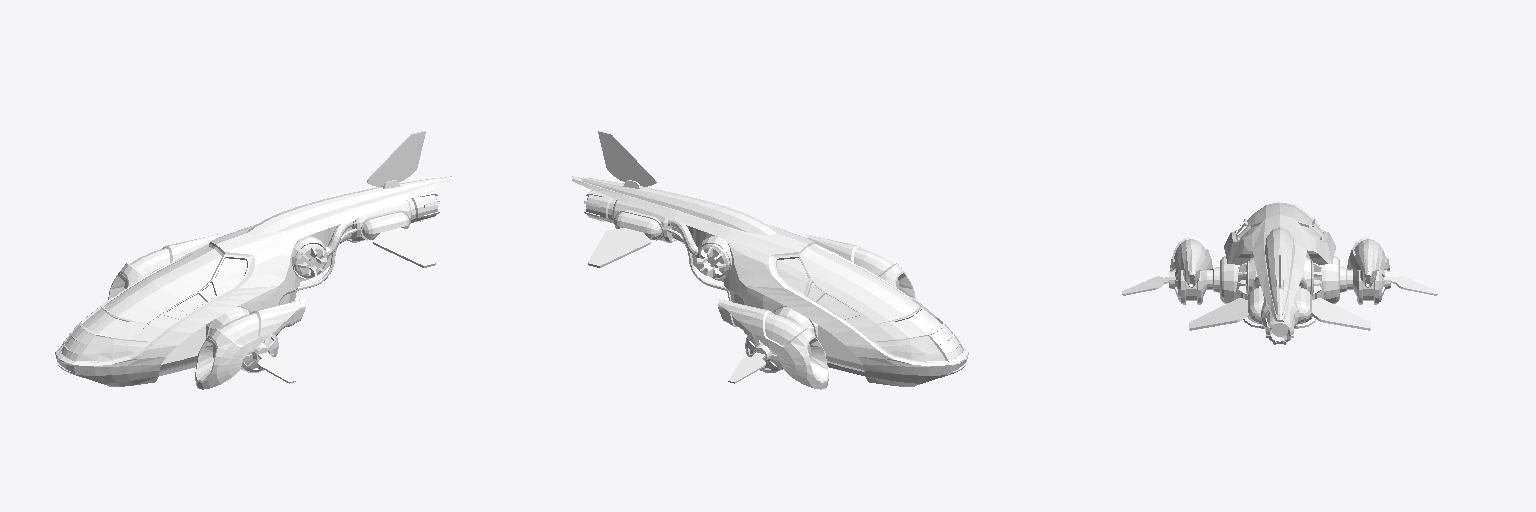
The model's file is Sample_Ship1.obj.
3 renders of one model, left to right at view 1: azimuth 30°, elevation 25°; view 2: azimuth 150°, elevation 25°; view 3: azimuth 270°, elevation 25°, orthographic.
Visible parts, largest first — view 1: Ship_Type_3_Sphere.005; view 2: Ship_Type_3_Sphere.005; view 3: Ship_Type_3_Sphere.005.
Part boxes in pixels (bbox=[...]): Ship_Type_3_Sphere.005: bbox=[55, 131, 451, 389]; Ship_Type_3_Sphere.005: bbox=[572, 131, 968, 389]; Ship_Type_3_Sphere.005: bbox=[1122, 201, 1437, 344].
Size of the model in its own units: 0.8613 by 0.3519 by 0.5999.